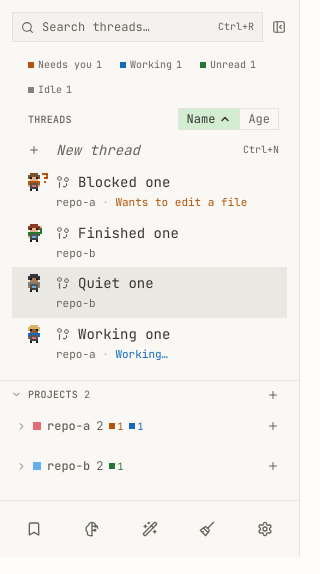
Scenario: Sidebar attention triage › keeps an unread thread listed after opening it, until another thread is focused
Click the button titled "Unread: 1": [228, 64] box [193,54,263,75]
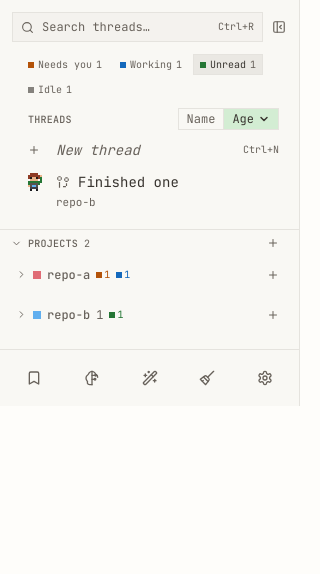
Click the text "Finished one": [128, 182] box [78,173,179,191]
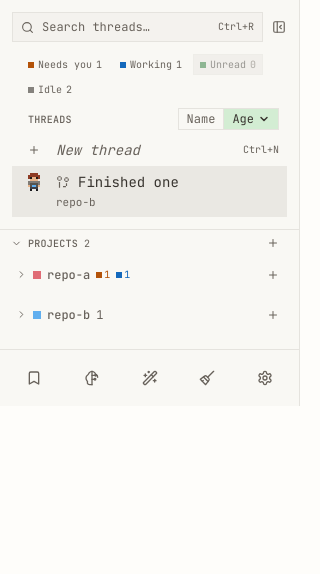
Check: the button "Unread 0" is shown, box [193,54,263,75]
